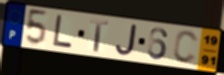5: (23, 7, 51, 48)
6: (147, 27, 169, 61)
C: (171, 30, 200, 66)
J: (114, 23, 139, 57)
L: (52, 14, 74, 49)
T: (89, 18, 110, 53)
